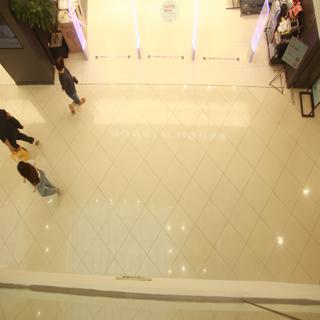person: (14, 155, 66, 208), (1, 110, 49, 153)
